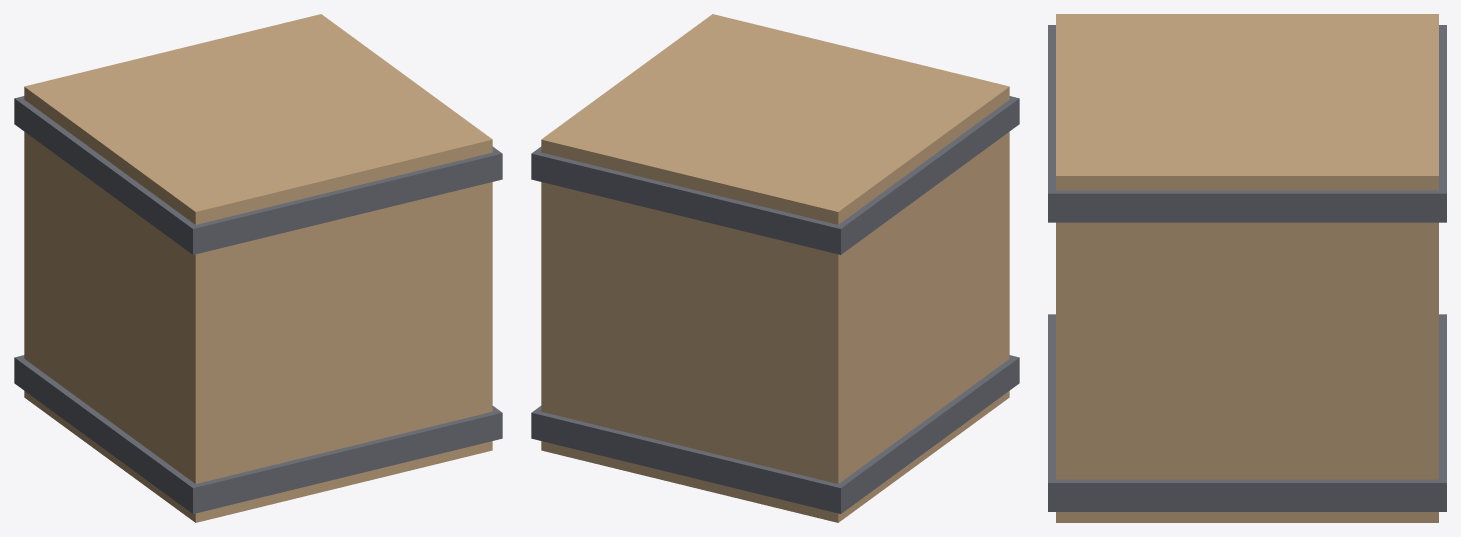
The model's file is crate.glb.
3 views of the same model, side by side, from view 1: azimuth 30°, elevation 25°; view 2: azimuth 150°, elevation 25°; view 3: azimuth 270°, elevation 25° (orthographic). The views are drawn at different scales.
Visible parts, largest first — view 1: crate; view 2: crate; view 3: crate.
Boxes of the visible parts, x1,y1,x2,y2 form: crate: (14,14,502,522); crate: (531,14,1019,522); crate: (1048,14,1446,522).
Bounding box in the file's own units: 1.25 × 1.2 × 1.25.
